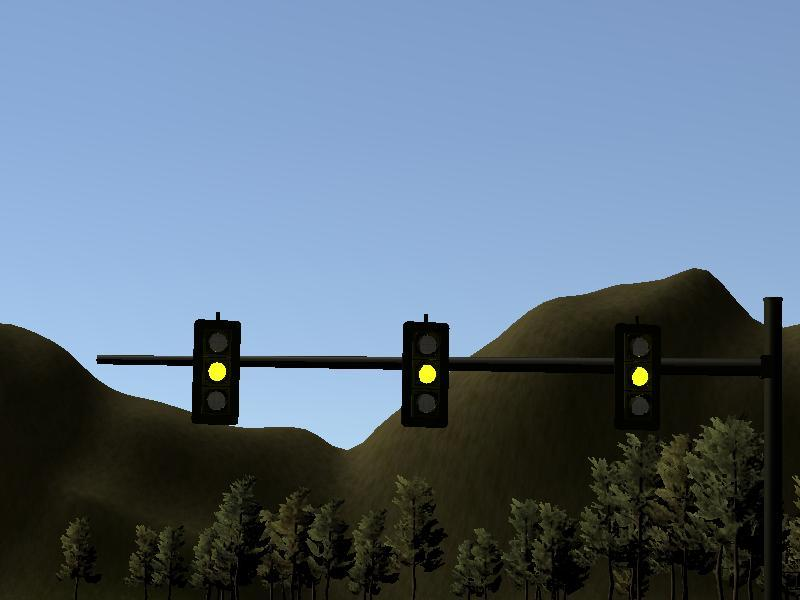Yellow: (613, 323, 662, 432), (192, 318, 240, 425), (401, 321, 448, 427)
